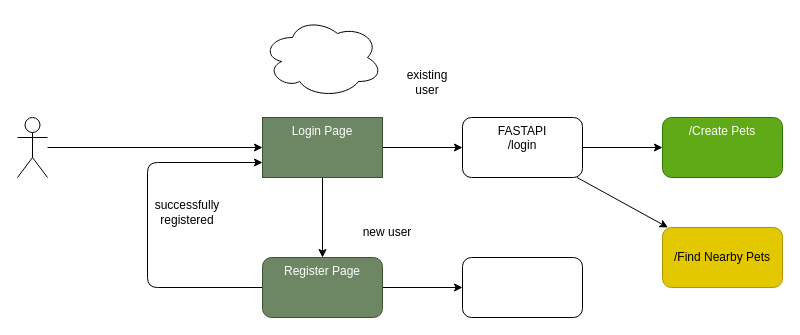
Some shapes in this 800 by 335 pixel diagram are drawn without their labels. Here are the shapes that lost their labels. From the top down, the centre of each, then its label:
At (322,57): "Jwt Authentication oauth".
At (32,147): "User".
At (522,287): "/Register API".
